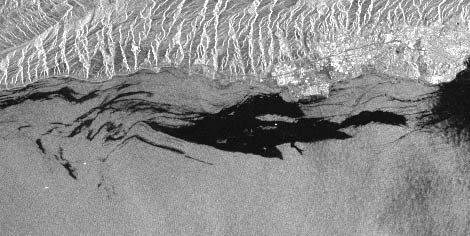anomaly: (1, 90, 470, 179)
